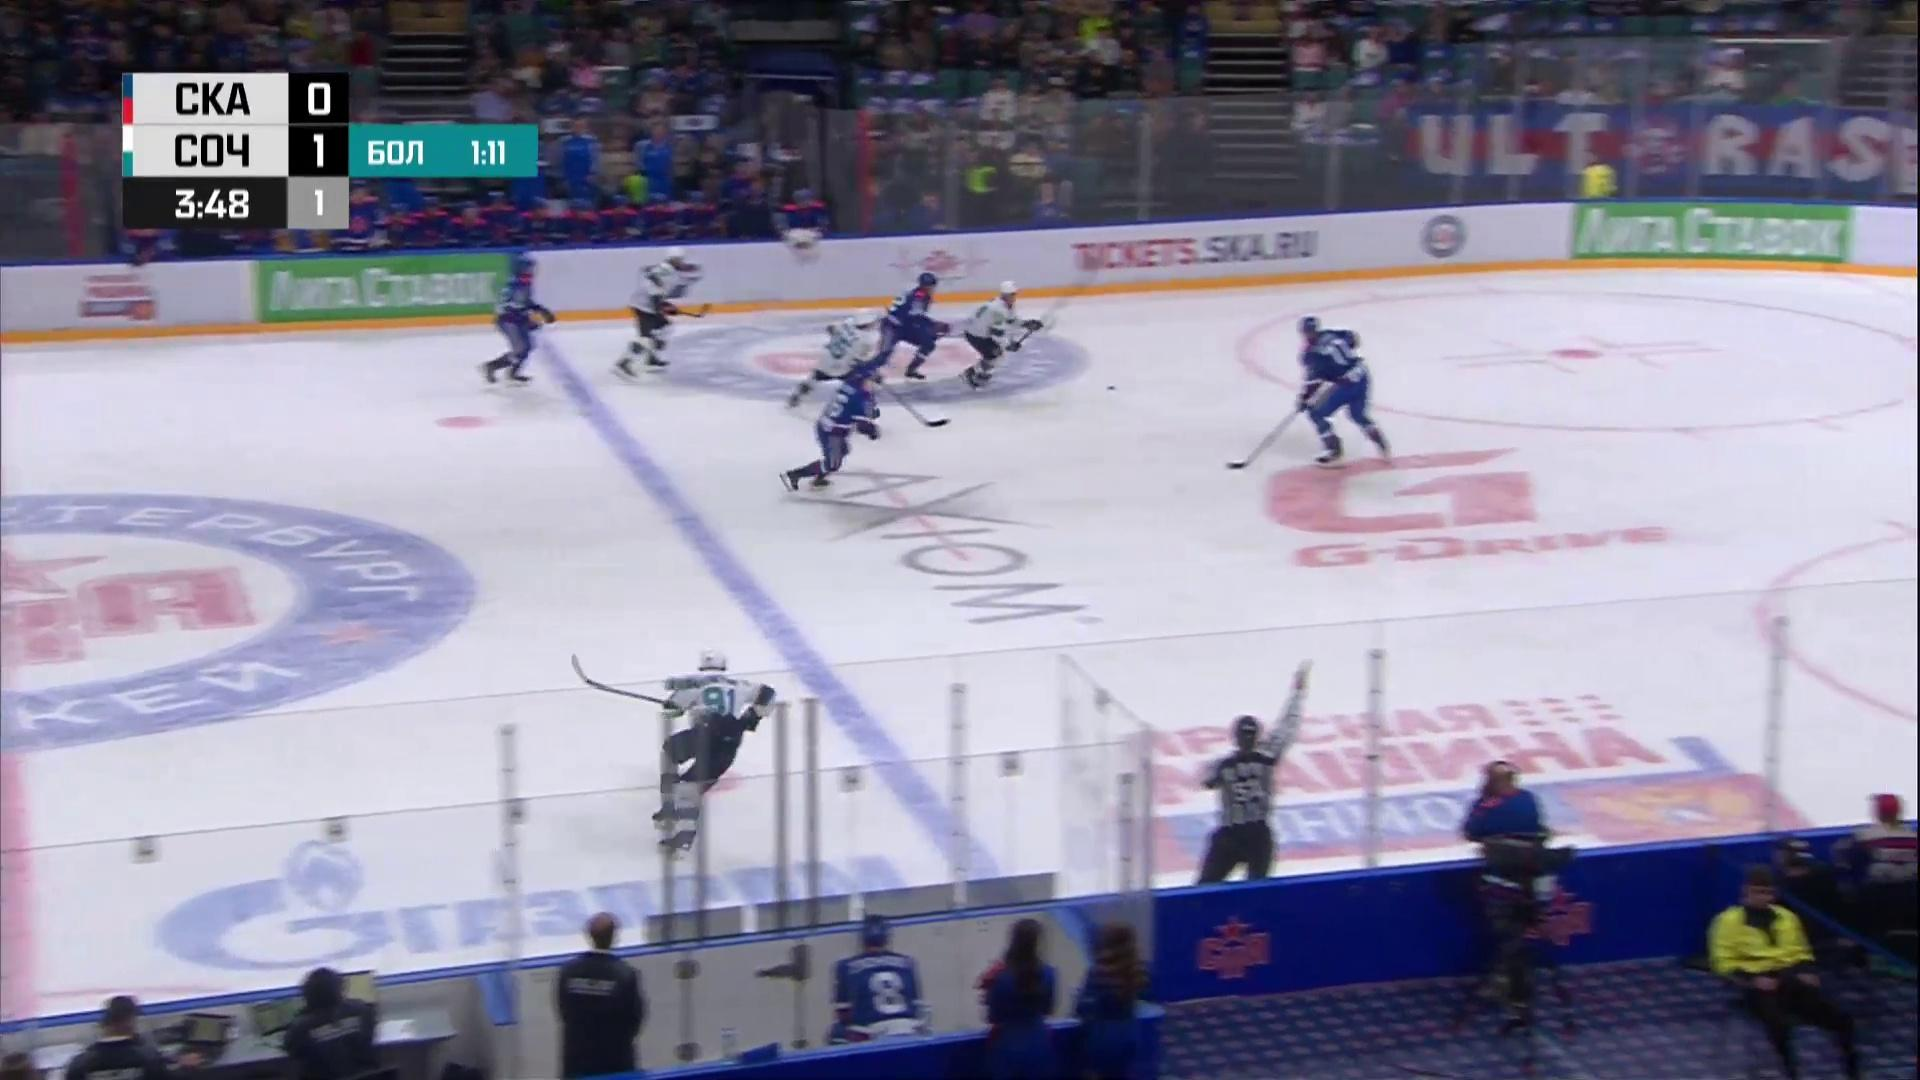ball: (1106, 385, 1116, 390)
